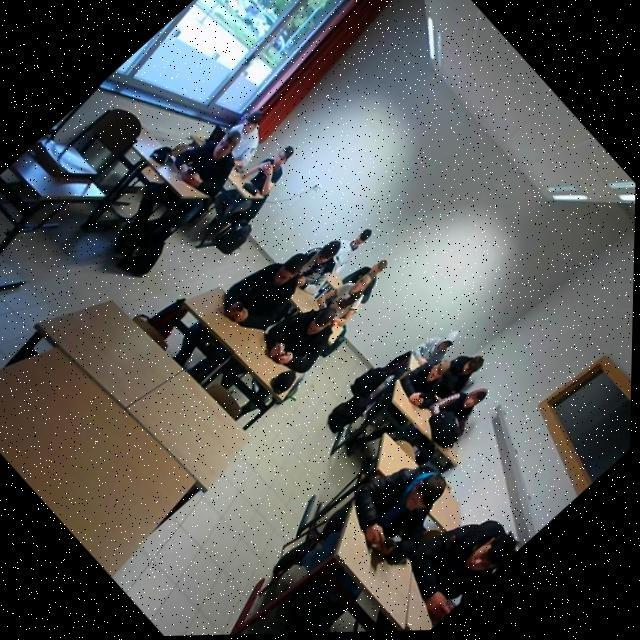phone_use: (337, 508, 408, 620), (151, 120, 257, 195), (223, 250, 314, 327), (290, 235, 365, 309), (264, 305, 343, 371), (400, 340, 464, 405), (237, 145, 292, 207), (376, 433, 414, 473), (427, 485, 459, 528)
